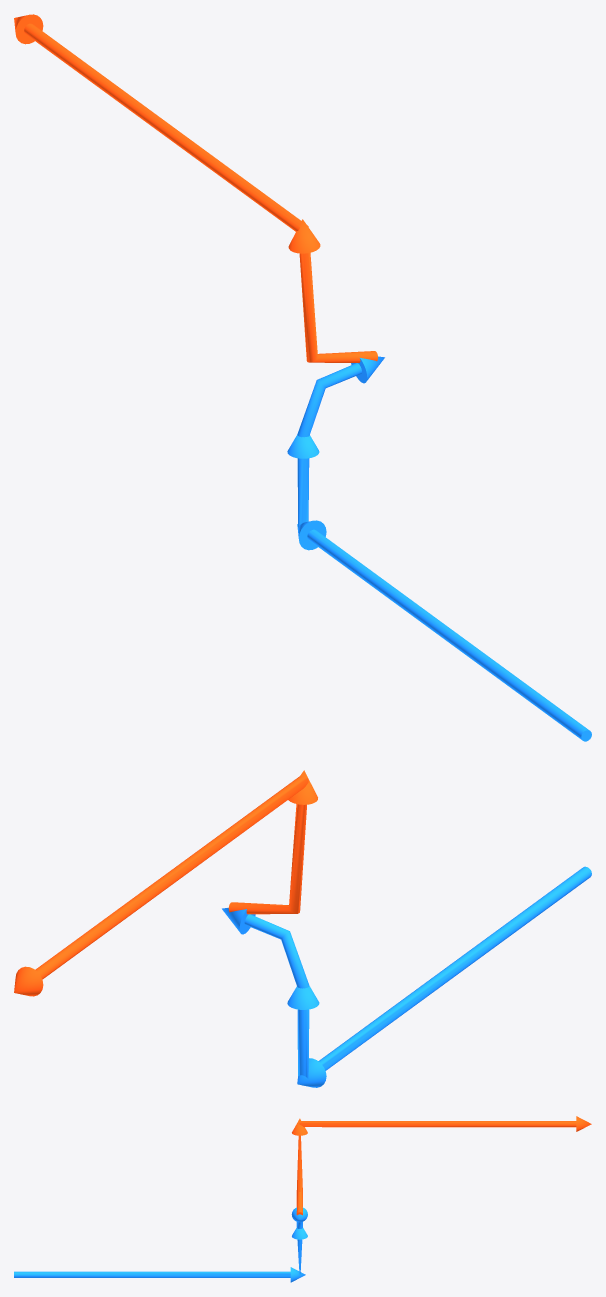
File: plunger_pump_flow.glb
3 views of the same model, one above another, from view 1: azimuth 30°, elevation 25°; view 2: azimuth 150°, elevation 25°; view 3: azimuth 270°, elevation 25° (orthographic). The views are drawn at different scales.
Parts seen in each view (by area): view 1: flow_in, flow_out; view 2: flow_in, flow_out; view 3: flow_out, flow_in.
Part boxes in pixels (x1=…): flow_in: x1=287, y1=356, x2=591, y2=741; flow_out: x1=14, y1=14, x2=377, y2=362; flow_in: x1=222, y1=866, x2=591, y2=1087; flow_out: x1=14, y1=770, x2=317, y2=996; flow_out: x1=292, y1=1116, x2=591, y2=1215; flow_in: x1=14, y1=1207, x2=307, y2=1282.
Size of the model in its own units: 0.1074 by 0.3512 by 1.11.
